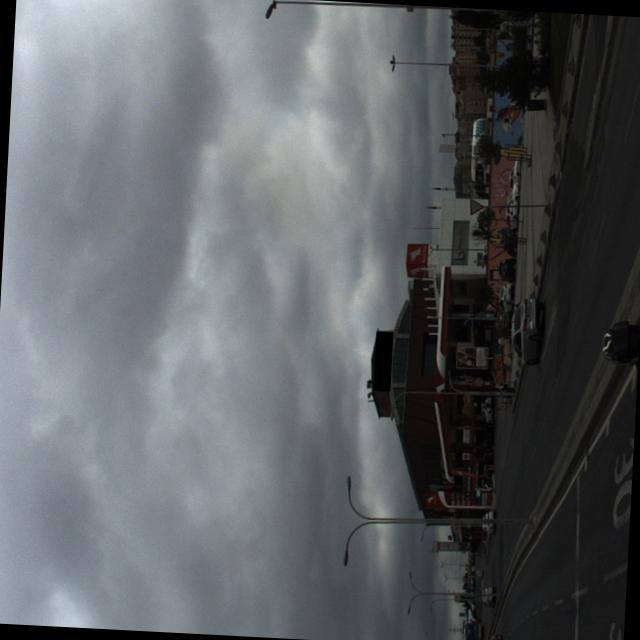SignStore: (373, 330, 393, 391)
